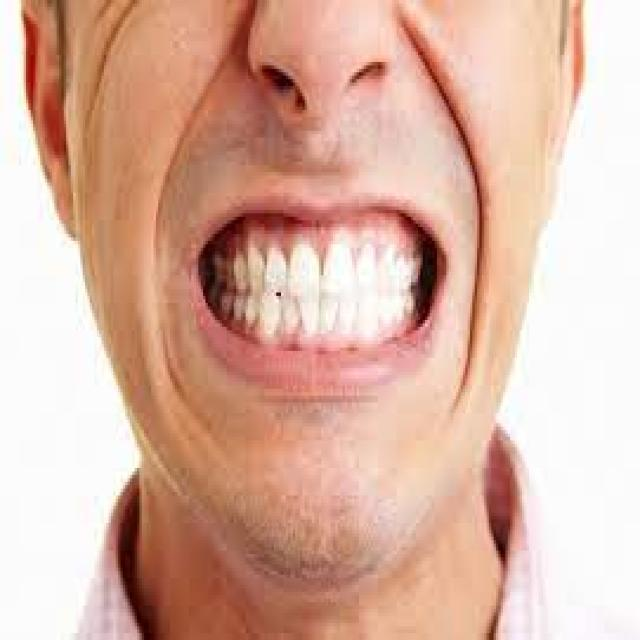tooth: (291, 244, 314, 289), (335, 296, 357, 341), (267, 244, 288, 289), (224, 255, 248, 292), (321, 248, 352, 275), (354, 251, 376, 289), (361, 300, 378, 348), (246, 241, 262, 289), (302, 292, 314, 348), (380, 248, 392, 296), (378, 296, 392, 334), (401, 292, 418, 320), (262, 292, 274, 327), (394, 262, 408, 289), (392, 296, 402, 327)
